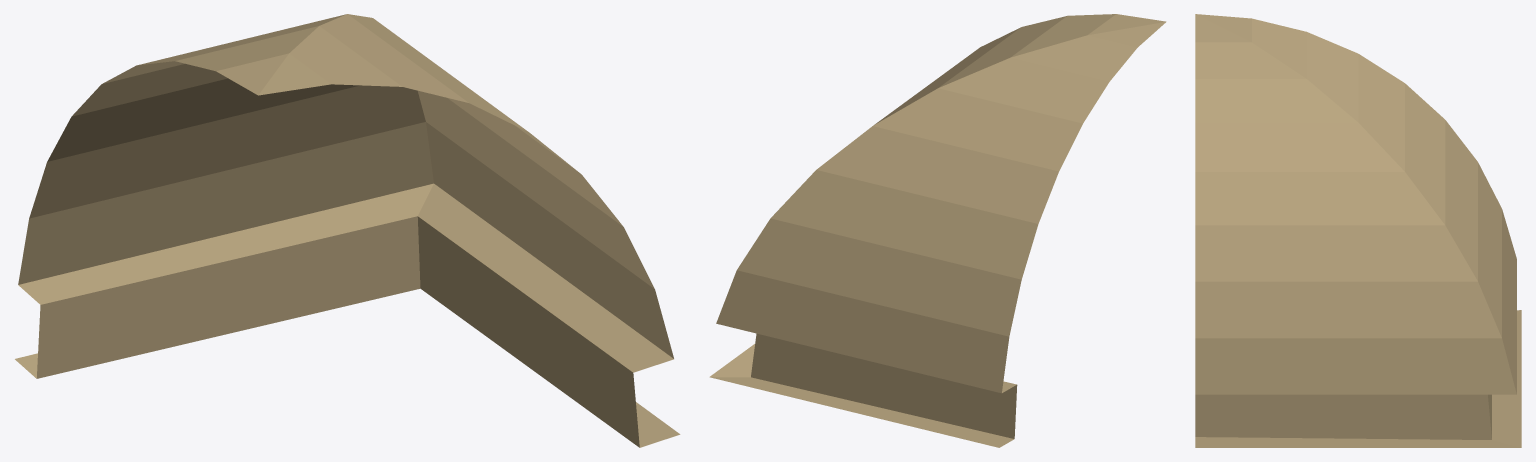
Rendered from Wall_Arch_Corner_Inward_Sewer_Environment.FBX.
3 views of the same model, side by side, from view 1: azimuth 30°, elevation 25°; view 2: azimuth 150°, elevation 25°; view 3: azimuth 270°, elevation 25° (orthographic). The views are drawn at different scales.
Parts seen in each view (by area): view 1: Wandschräge006; view 2: Wandschräge006; view 3: Wandschräge006.
Boxes of the visible parts, x1=… form: Wandschräge006: x1=15, y1=14, x2=680, y2=447; Wandschräge006: x1=709, y1=14, x2=1166, y2=447; Wandschräge006: x1=1195, y1=14, x2=1521, y2=447.
Size of the model in its own units: 100 by 102 by 100.
